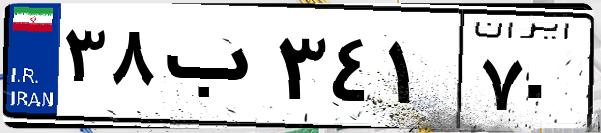0: (525, 38, 570, 115)
1: (385, 28, 445, 110)
3: (270, 28, 330, 110), (57, 26, 110, 100)
4: (330, 28, 385, 110)
7: (475, 38, 525, 113)
8: (110, 28, 158, 98)
ب: (158, 20, 270, 120)
